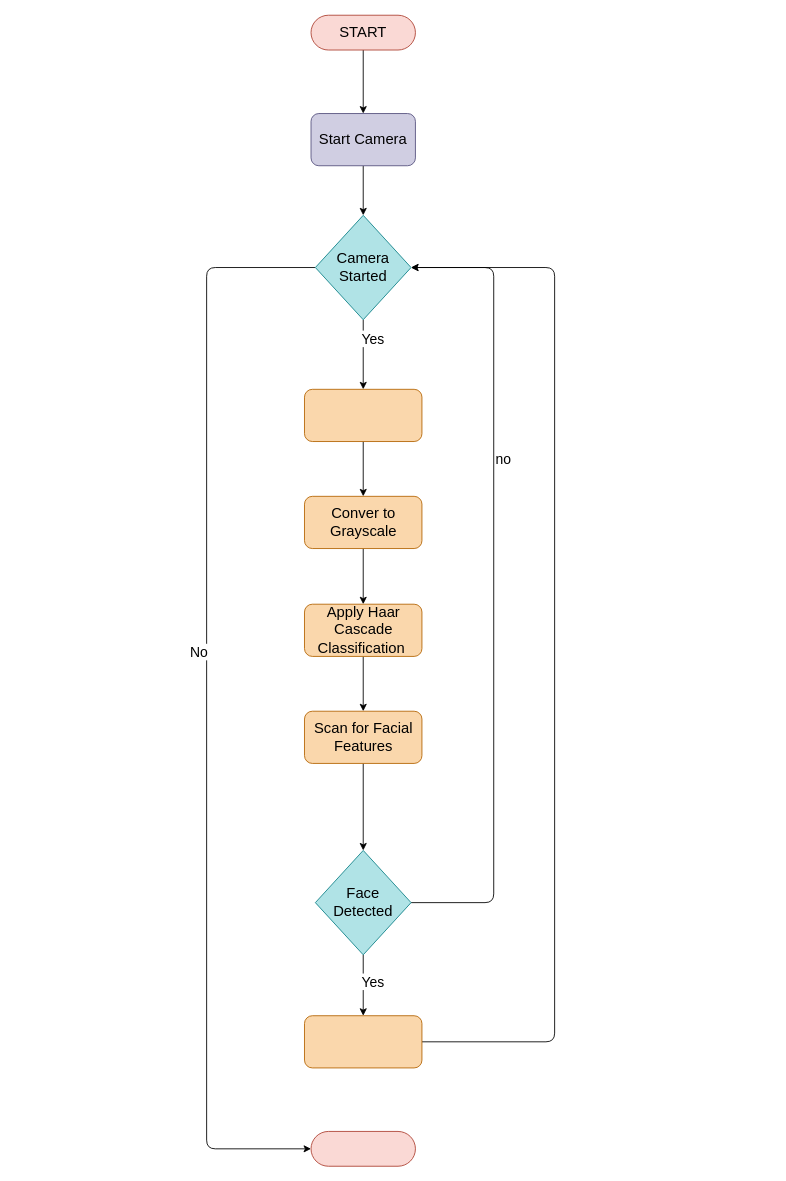
This 786x1181 diagram has some shape labels left out. The shapes that lost their labels are listed below. From the top down, each one's box as (x1, y1, x2, y2) in pixels, then its label:
(304, 388, 422, 442): Read frame
(304, 1015, 422, 1068): Draw Rectangle around Face
(310, 1131, 415, 1166): END
